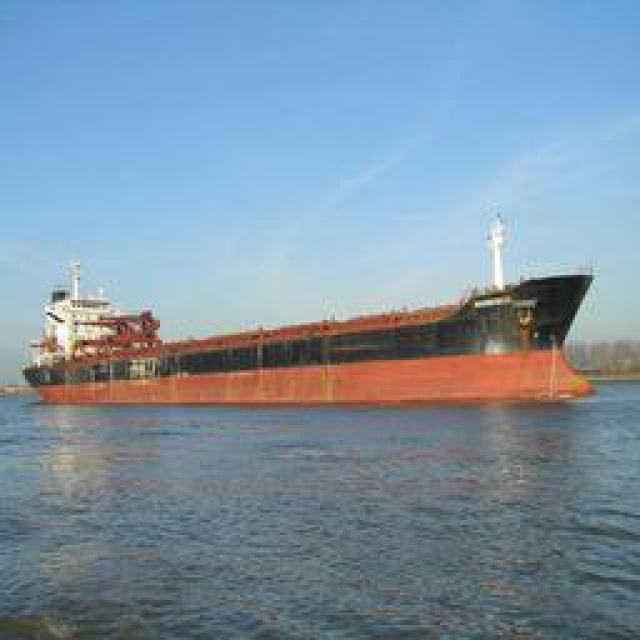Ship: (19, 281, 592, 409)
